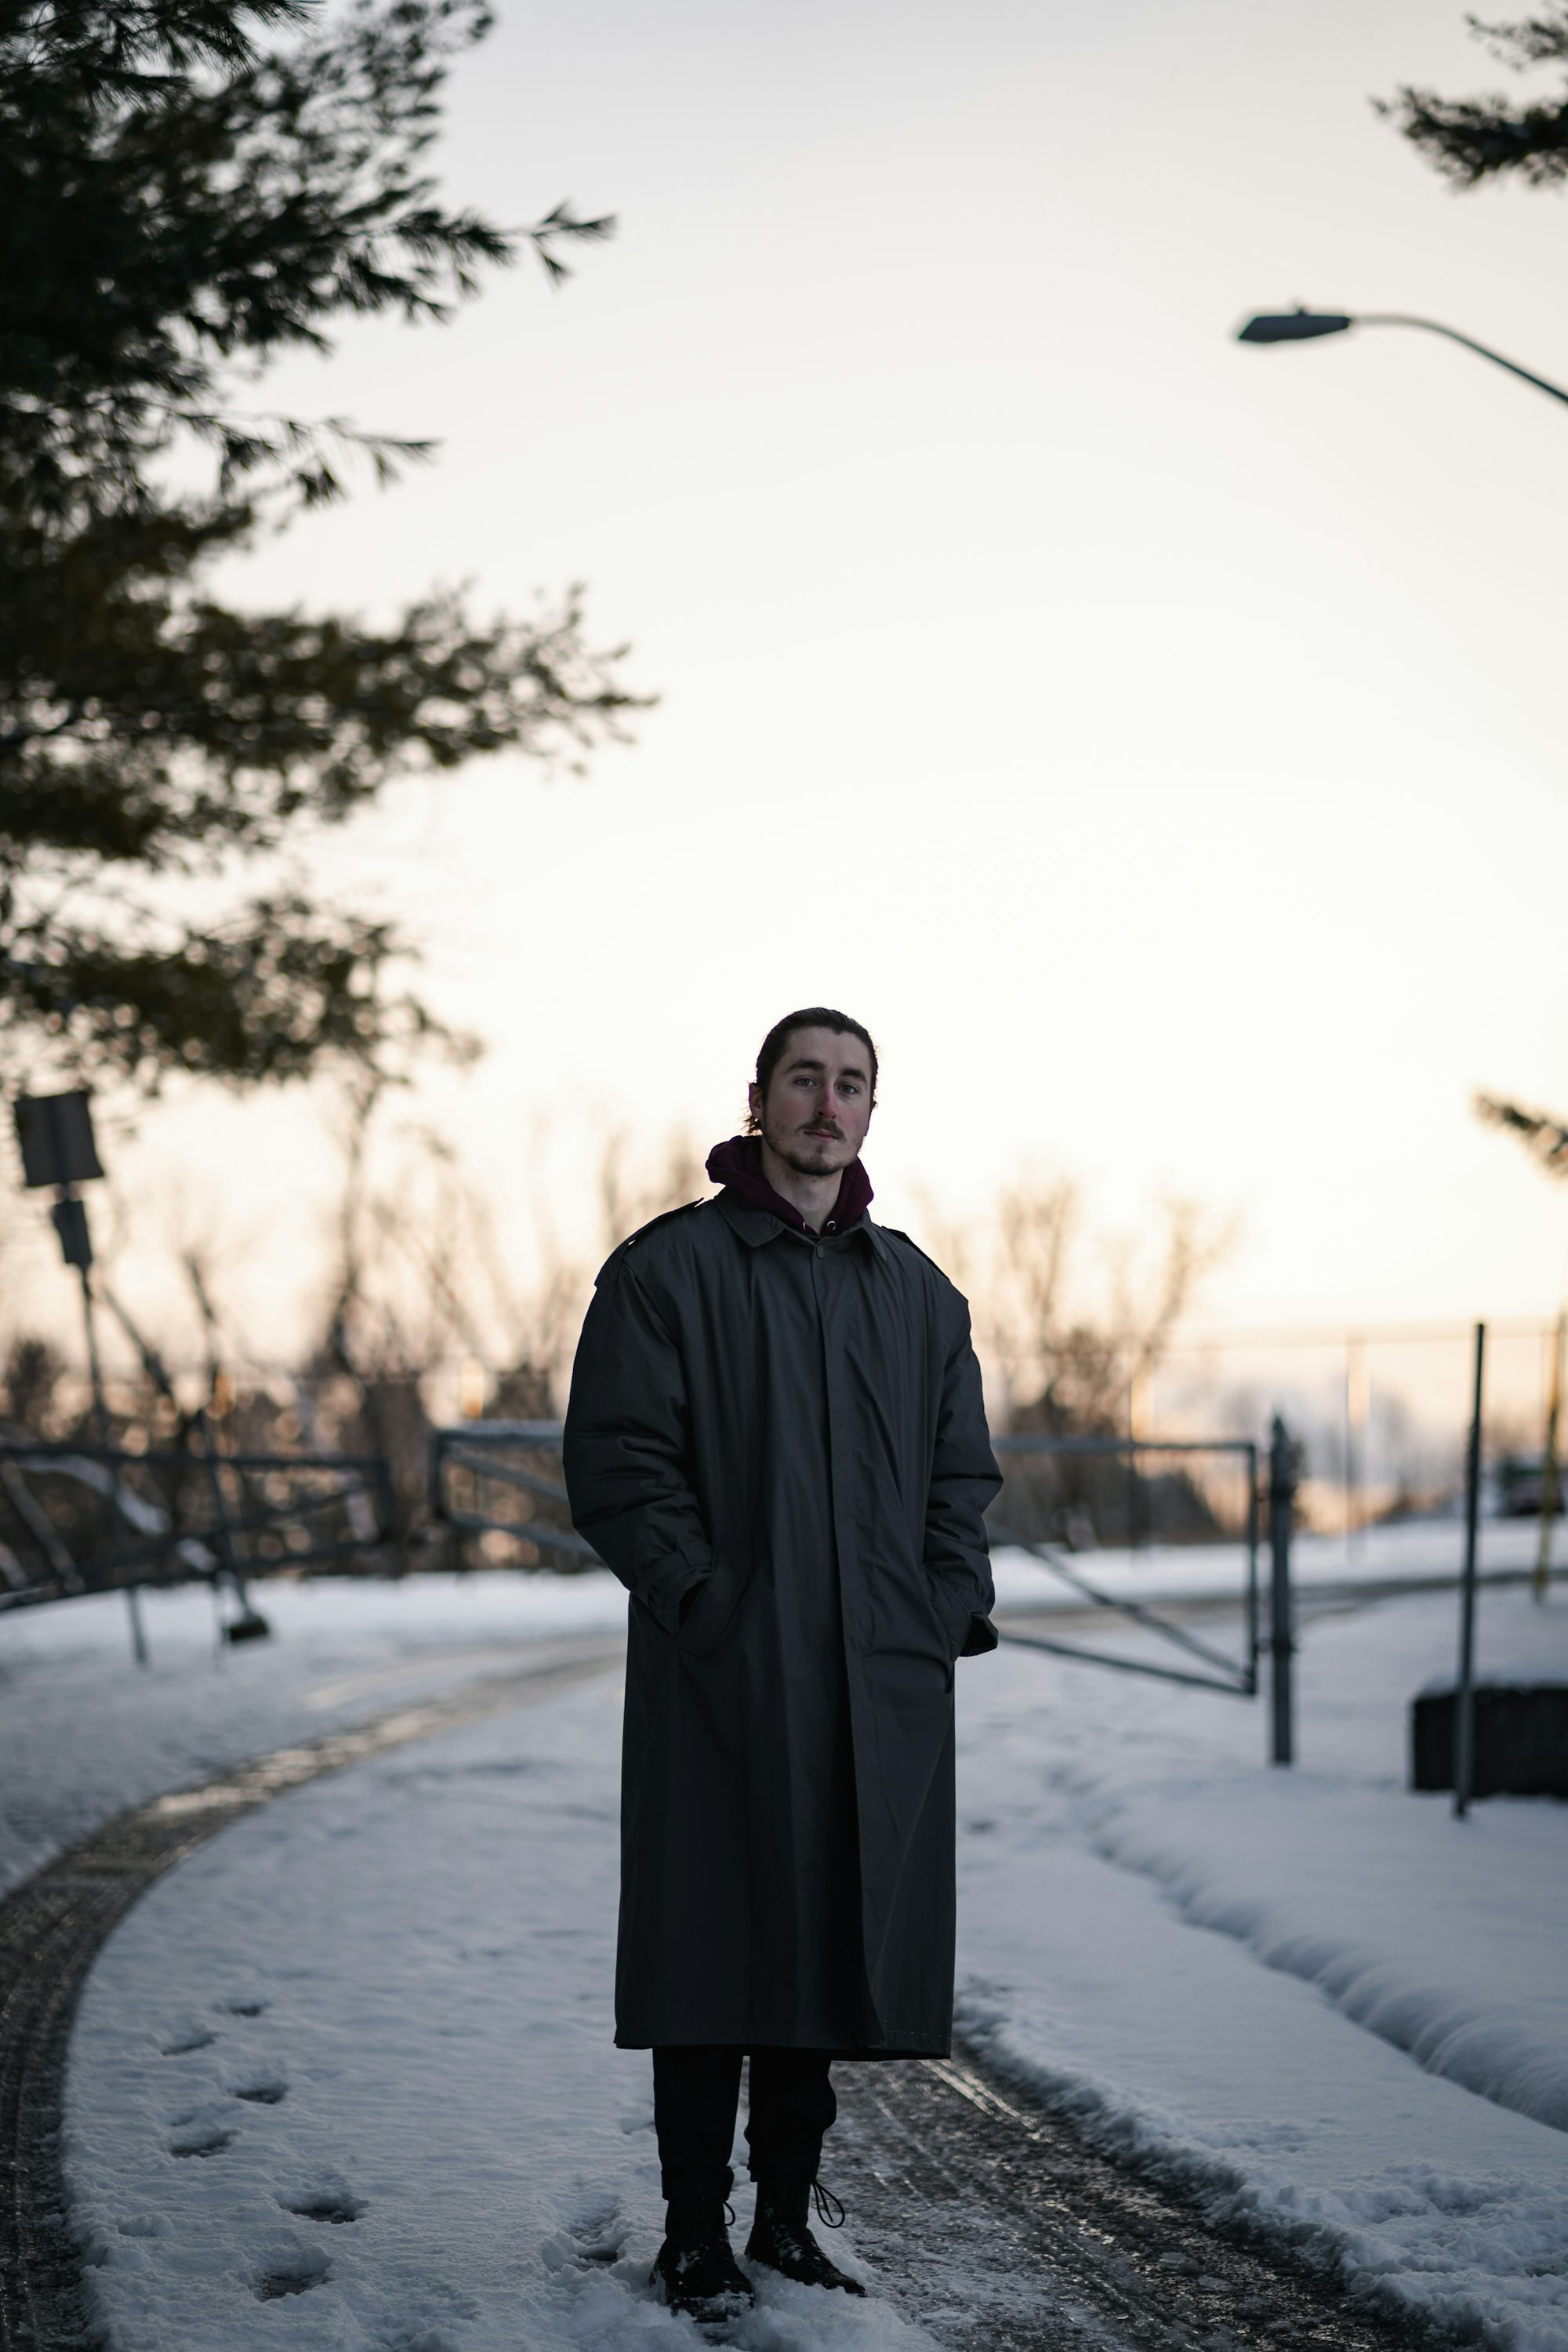person: (550, 982, 1003, 2351)
